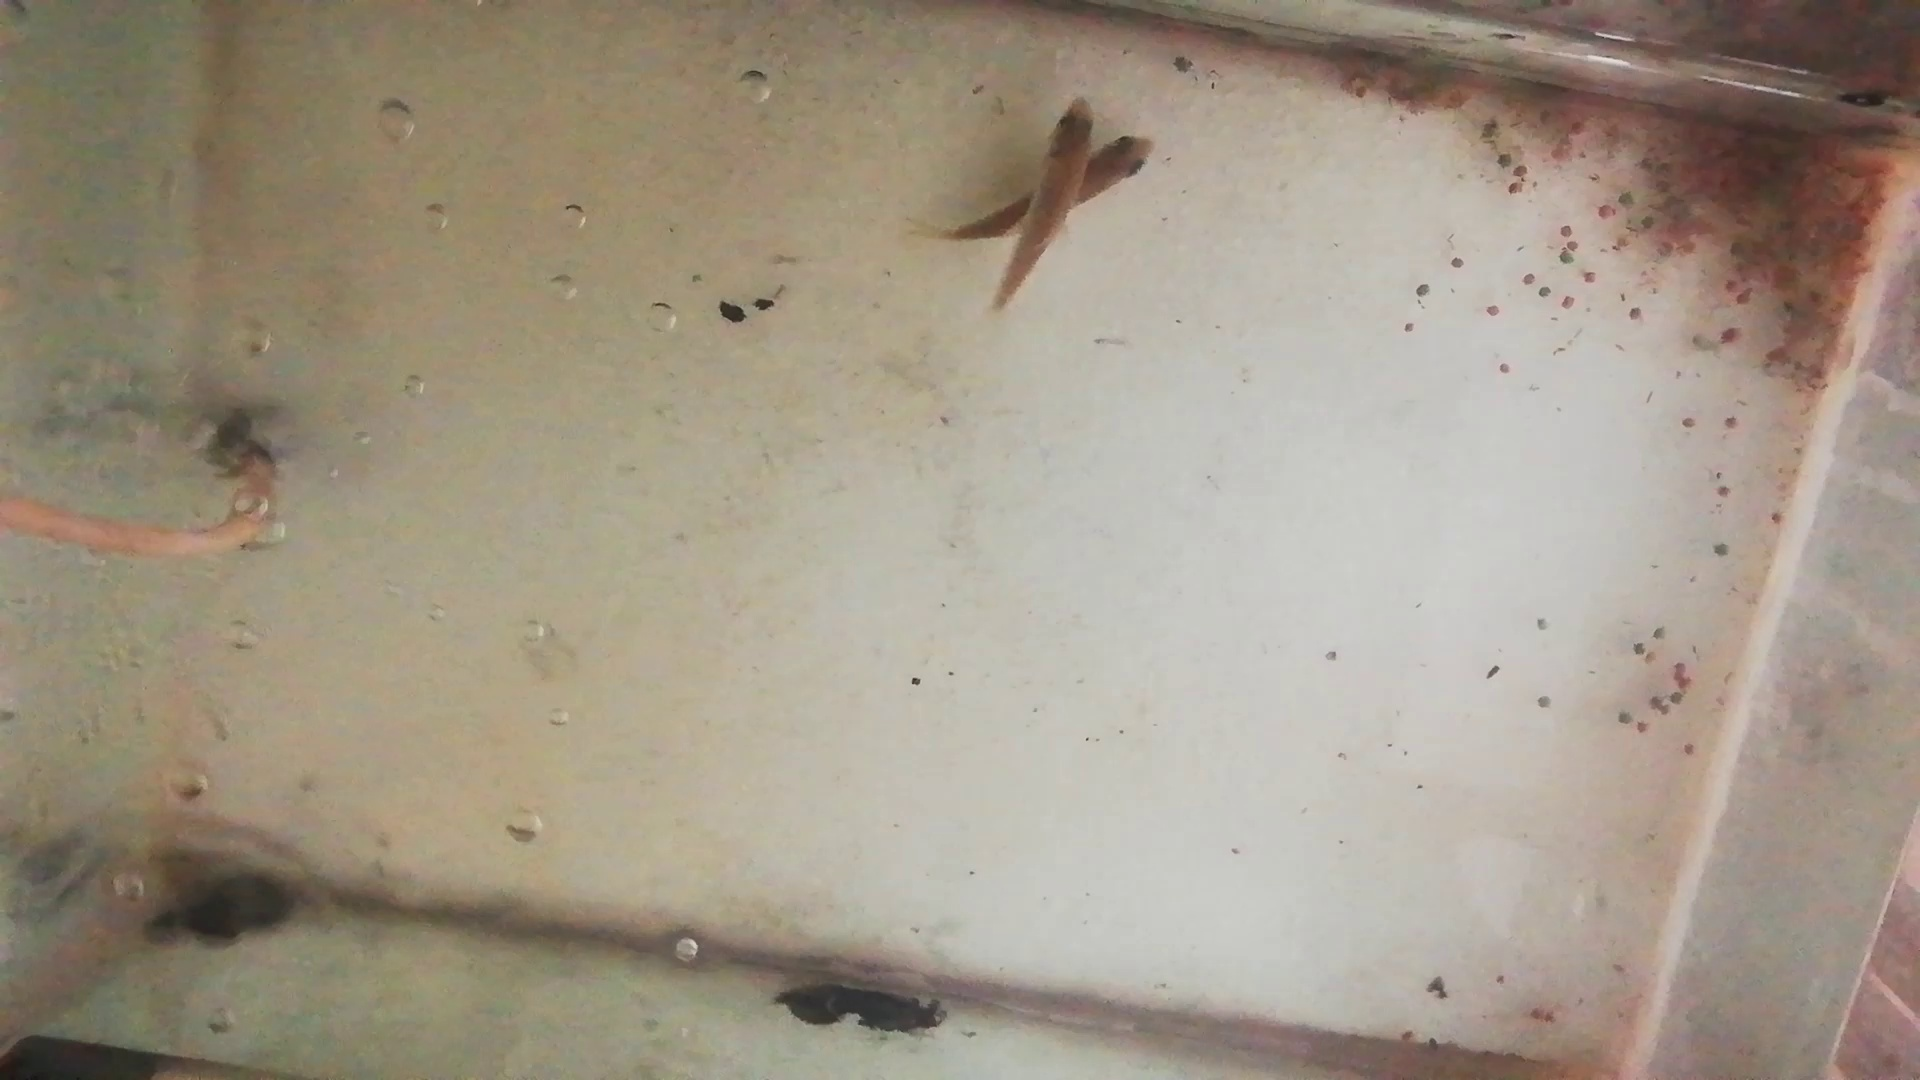fish: (948, 133, 1156, 241), (992, 95, 1092, 310)
